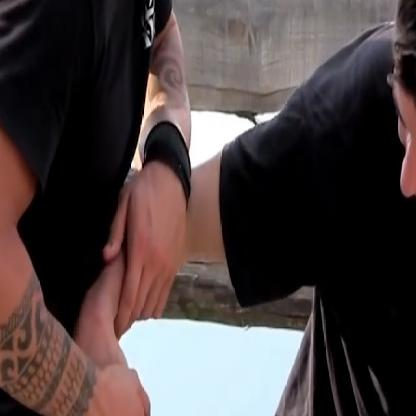knife: (106, 358, 254, 415)
